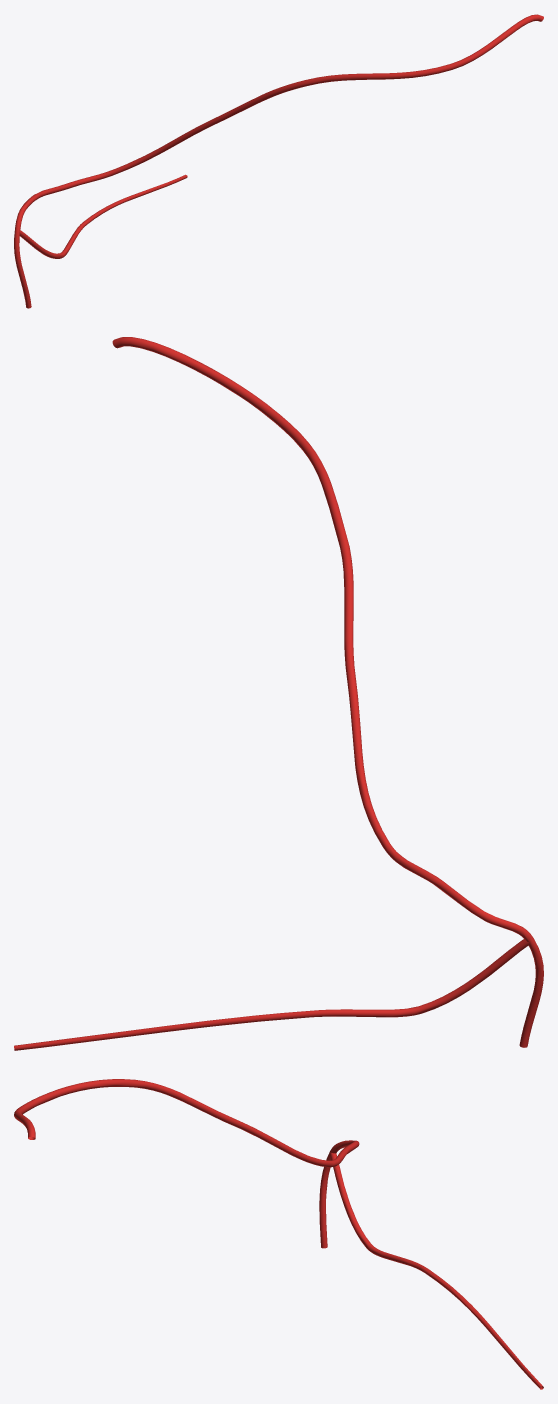
File: circulatorio-suprascapular-artery-r.glb
3 views of the same model, one above another, from view 1: azimuth 30°, elevation 25°; view 2: azimuth 150°, elevation 25°; view 3: azimuth 270°, elevation 25° (orthographic). The views are drawn at different scales.
Visible parts, largest first — view 1: Suprascapular artery.r; view 2: Suprascapular artery.r; view 3: Suprascapular artery.r.
Boxes of the visible parts, x1,y1,x2,y2 form: Suprascapular artery.r: [14, 14, 543, 308]; Suprascapular artery.r: [14, 337, 543, 1050]; Suprascapular artery.r: [14, 1079, 543, 1389].
Bounding box in the file's own units: 0.1027 × 0.0695 × 0.0961.
